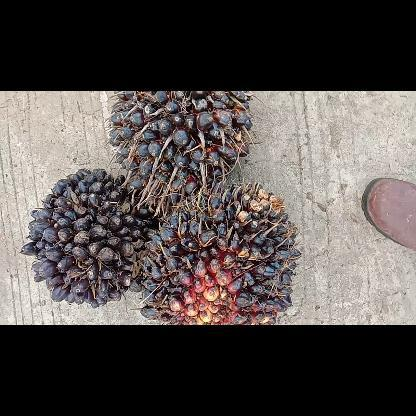TBS mentah: (136, 178, 302, 324), (19, 164, 159, 310), (105, 91, 259, 211)
